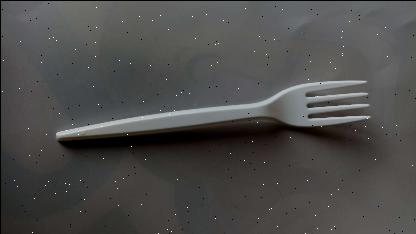Others: (52, 68, 374, 140)
